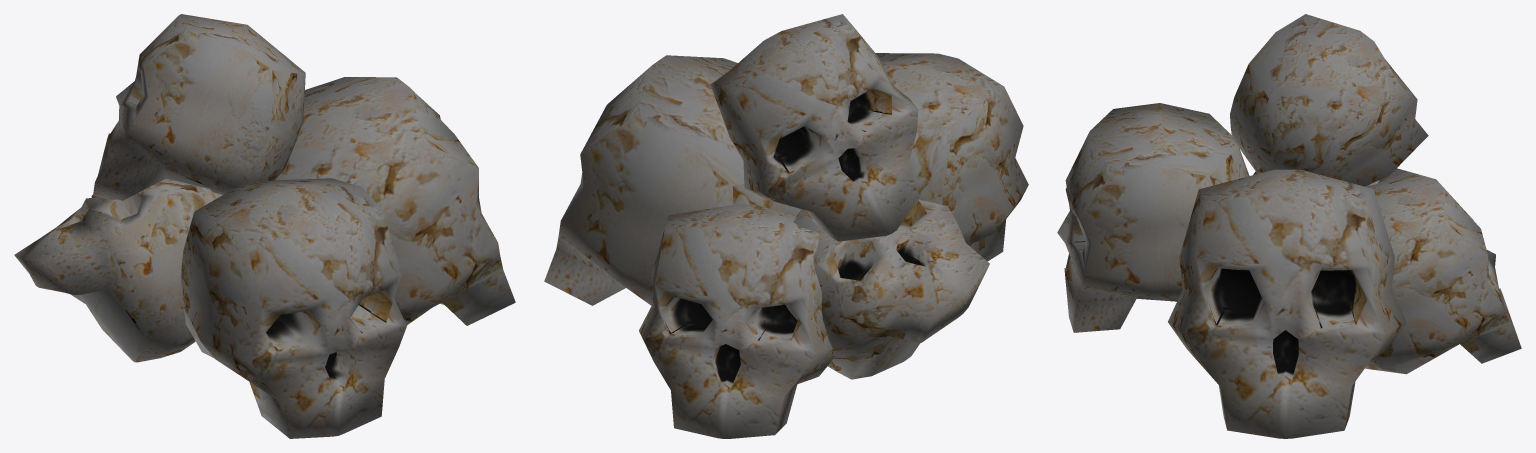
The model's file is SkullPile.fbx.
The picture shows the model from 3 angles, left to right: view 1: azimuth 30°, elevation 25°; view 2: azimuth 150°, elevation 25°; view 3: azimuth 270°, elevation 25°; orthographic projection. The views are drawn at different scales.
Parts seen in each view (by area): view 1: PilheOfSkull; view 2: PilheOfSkull; view 3: PilheOfSkull.
Part boxes in pixels (x1,y1,x2,y2): PilheOfSkull: [14, 14, 515, 438]; PilheOfSkull: [544, 14, 1028, 438]; PilheOfSkull: [1057, 14, 1521, 438].
Size of the model in its own units: 0.7145 by 0.5463 by 0.7137.
